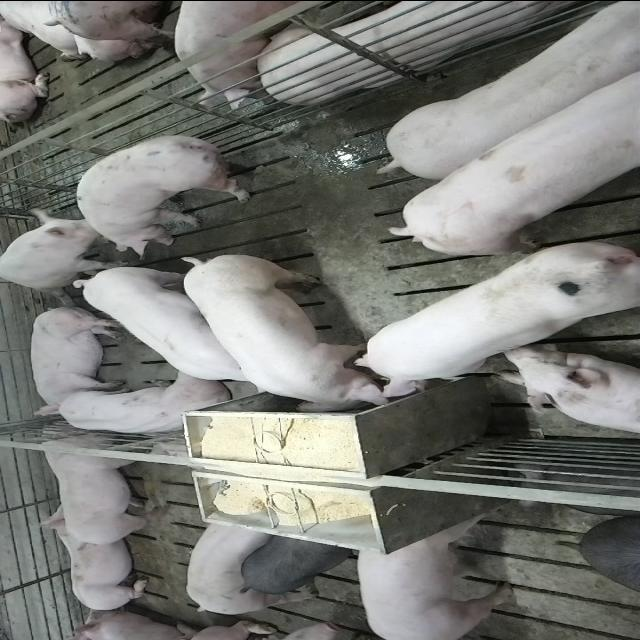Feeding: (350, 235, 636, 400), (175, 256, 408, 419)
Lateral_lying: (253, 0, 614, 101), (28, 304, 128, 416)
Sitting: (1, 209, 121, 293)
Standing: (385, 51, 640, 254), (381, 0, 640, 175), (72, 261, 288, 393), (78, 128, 274, 252), (354, 504, 513, 638), (36, 422, 172, 550), (172, 0, 310, 106), (184, 511, 276, 614), (238, 530, 355, 594)
Sternal_lying: (32, 508, 154, 612), (498, 349, 640, 436), (49, 375, 233, 438)
